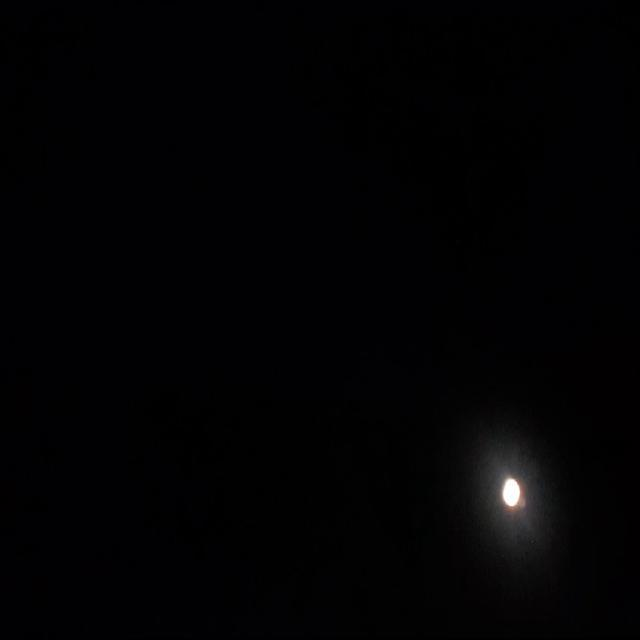moon: (505, 438, 528, 471)
